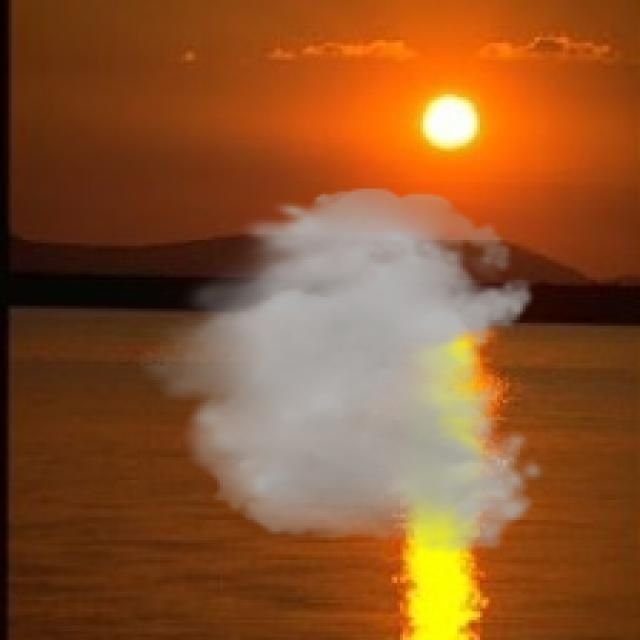smoke: (131, 189, 546, 554)
